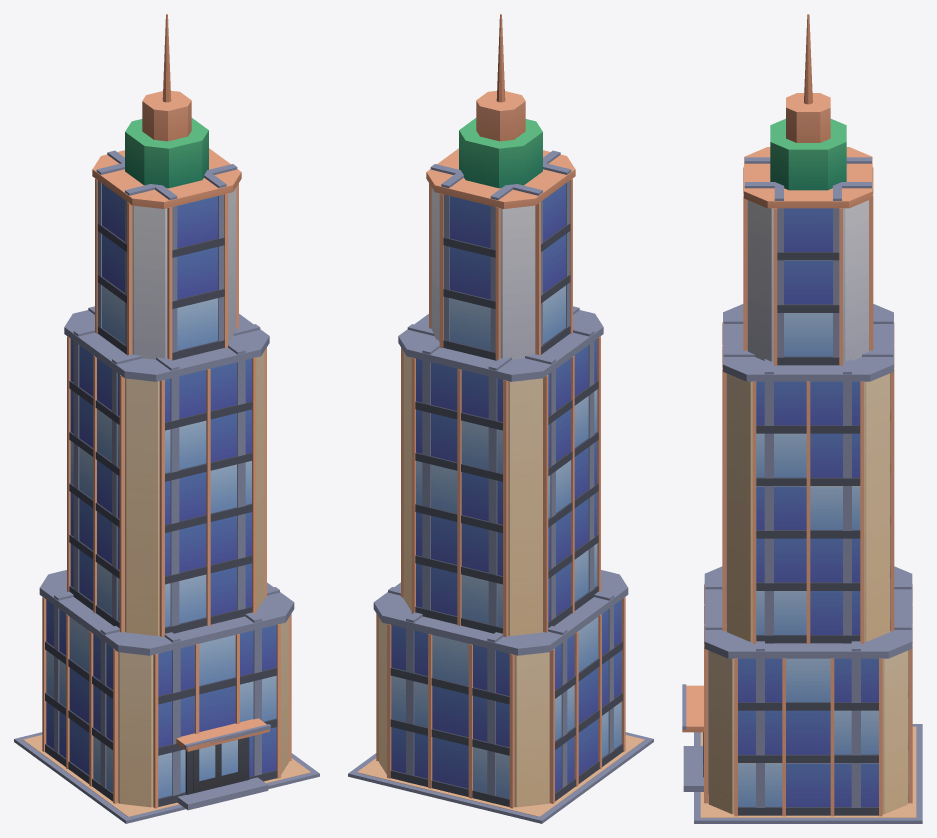
Rendered from off_artdeco_spire_1x1.glb.
3 renders of one model, left to right at view 1: azimuth 30°, elevation 25°; view 2: azimuth 150°, elevation 25°; view 3: azimuth 270°, elevation 25°, orthographic. The views are drawn at different scales.
Parts seen in each view (by area): view 1: off_artdeco_spire_1x1; view 2: off_artdeco_spire_1x1; view 3: off_artdeco_spire_1x1.
Boxes of the visible parts, x1,y1,x2,y2 form: off_artdeco_spire_1x1: [14, 14, 319, 823]; off_artdeco_spire_1x1: [348, 14, 653, 823]; off_artdeco_spire_1x1: [682, 14, 922, 823].
Bounding box in the file's own units: 1.69 × 6.22 × 1.78.
1 material, 1 textured.
